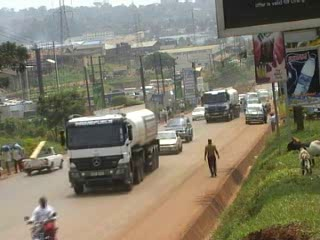Car: (160, 112, 195, 145), (155, 128, 184, 156), (187, 103, 207, 122)
Motorcycle: (21, 192, 60, 238)
